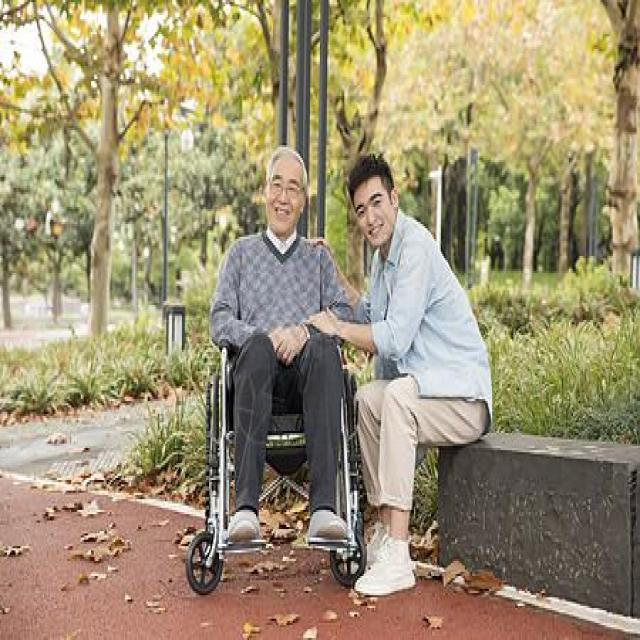wheelchairs: (180, 293, 377, 600)
